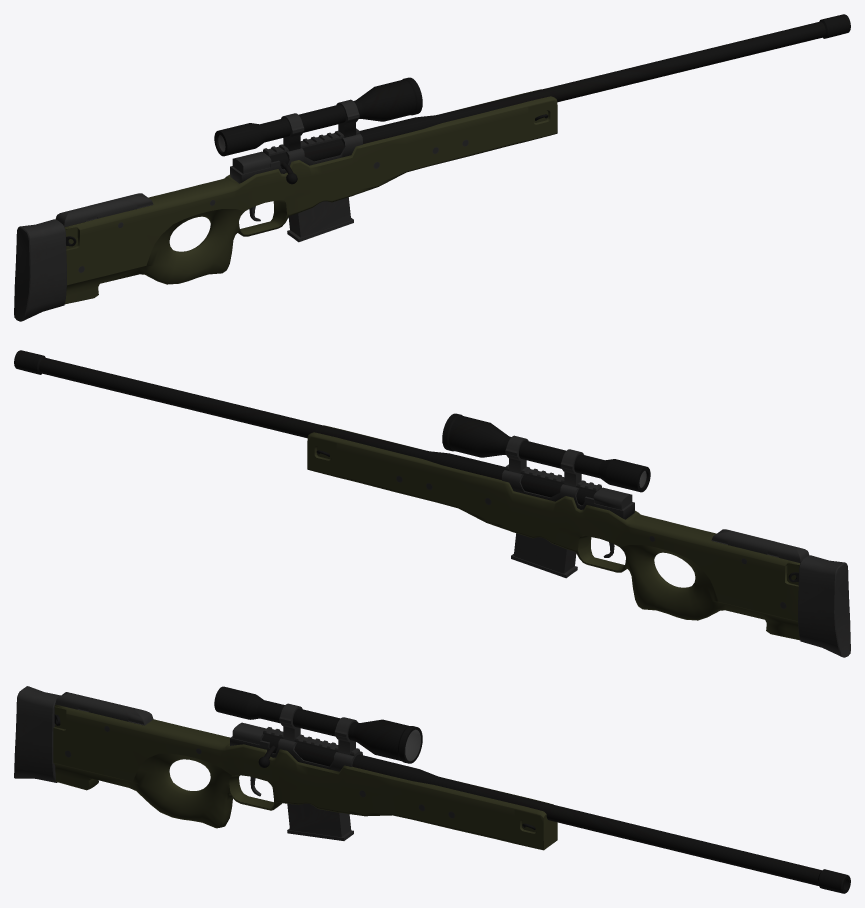
File: L96_Sniper.glb
3 views of the same model, one above another, from view 1: azimuth 30°, elevation 25°; view 2: azimuth 150°, elevation 25°; view 3: azimuth 330°, elevation 25° (orthographic).
Visible parts, largest first — view 1: L96_Sniper_Rifle; view 2: L96_Sniper_Rifle; view 3: L96_Sniper_Rifle.
Part boxes in pixels (box(x1,y1,x2,y2)): L96_Sniper_Rifle: box(14, 14, 850, 321); L96_Sniper_Rifle: box(14, 350, 850, 657); L96_Sniper_Rifle: box(14, 686, 850, 893).
Bounding box in the file's own units: 1.17 × 0.1969 × 0.0637.
Materials: 2 (1 with a texture image).
